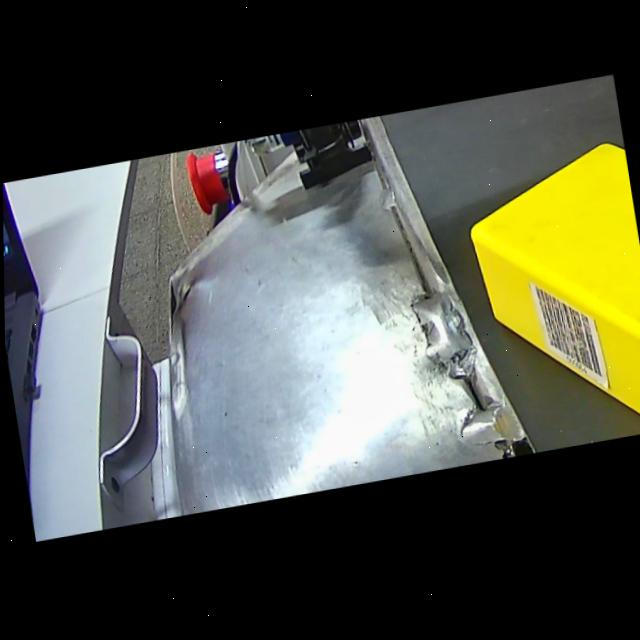yellowBox: (451, 133, 640, 464)
